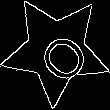O_NW: (23, 17, 88, 83)
